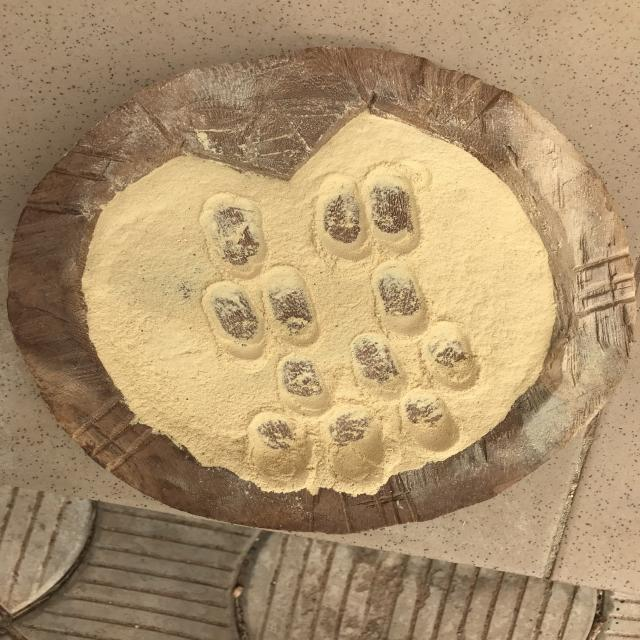double: (239, 412, 383, 486), (304, 176, 430, 256), (192, 281, 324, 343), (349, 334, 478, 391)
single: (190, 187, 269, 275), (364, 264, 436, 339), (392, 394, 466, 457), (270, 349, 336, 411)
